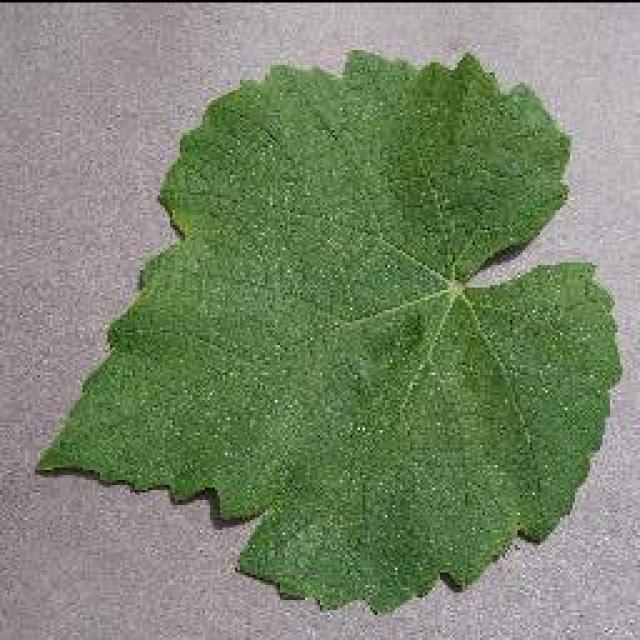Grape___healthy: (40, 52, 618, 610)
